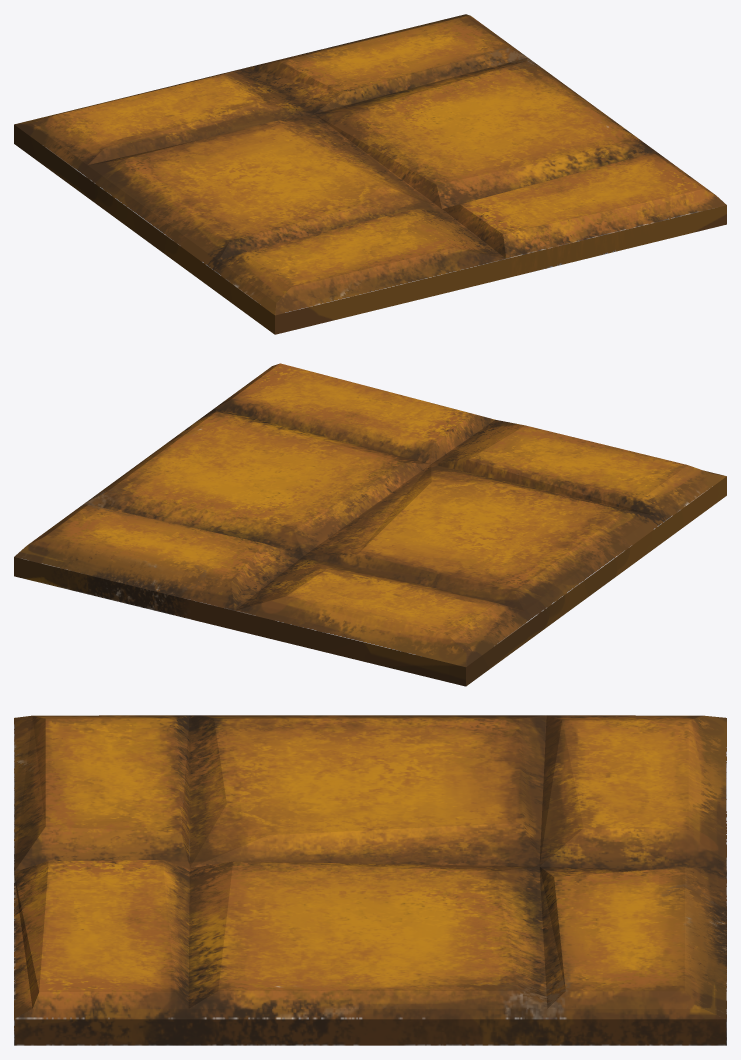
The model's file is Floor_Squared_D.fbx.
The picture shows the model from 3 angles, top to bottom: view 1: azimuth 30°, elevation 25°; view 2: azimuth 150°, elevation 25°; view 3: azimuth 270°, elevation 25°; orthographic projection. The views are drawn at different scales.
Parts seen in each view (by area): view 1: Floor_Squared_D; view 2: Floor_Squared_D; view 3: Floor_Squared_D.
Part boxes in pixels (x1=…): Floor_Squared_D: x1=14, y1=14, x2=726, y2=334; Floor_Squared_D: x1=14, y1=363, x2=726, y2=686; Floor_Squared_D: x1=14, y1=715, x2=726, y2=1045.
Bounding box in the file's own units: 484 × 32.97 × 484.
